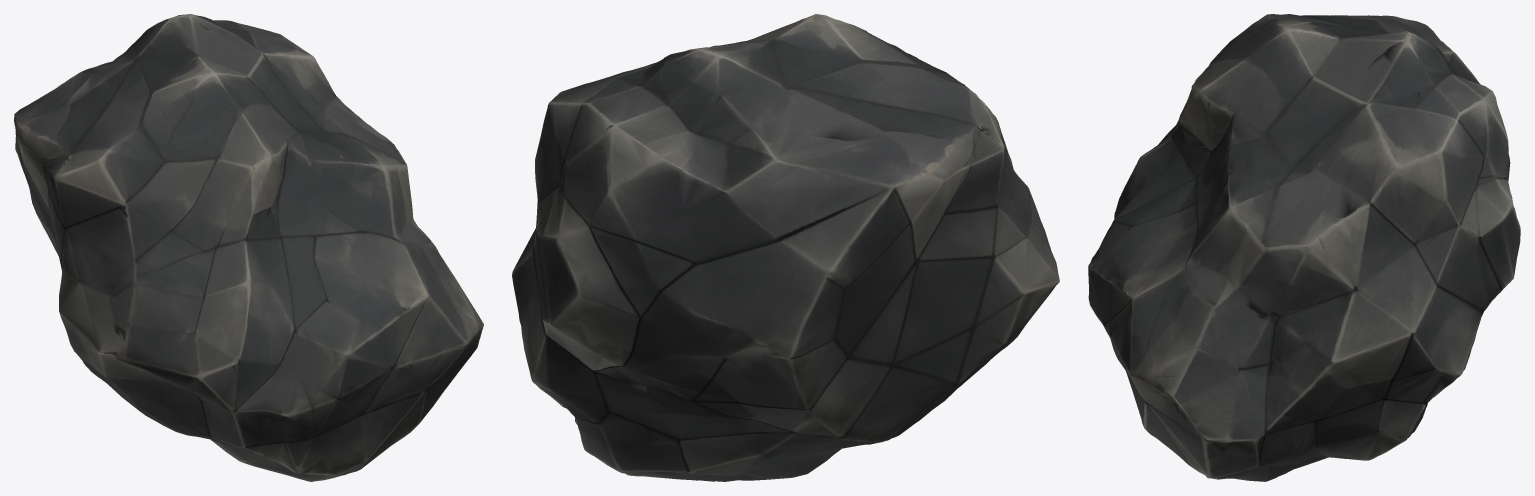
Rendered from 03_drift_rock_intact.fbx.
The picture shows the model from 3 angles, left to right: view 1: azimuth 30°, elevation 25°; view 2: azimuth 150°, elevation 25°; view 3: azimuth 270°, elevation 25°; orthographic projection. The views are drawn at different scales.
Parts seen in each view (by area): view 1: 03_drift_rock_intact; view 2: 03_drift_rock_intact; view 3: 03_drift_rock_intact.
Boxes of the visible parts, x1,y1,x2,y2 form: 03_drift_rock_intact: (14, 14, 483, 481); 03_drift_rock_intact: (512, 14, 1059, 481); 03_drift_rock_intact: (1088, 14, 1520, 481).
Bounding box in the file's own units: 1.17 × 1.2 × 1.14.
1 material, 1 textured.
